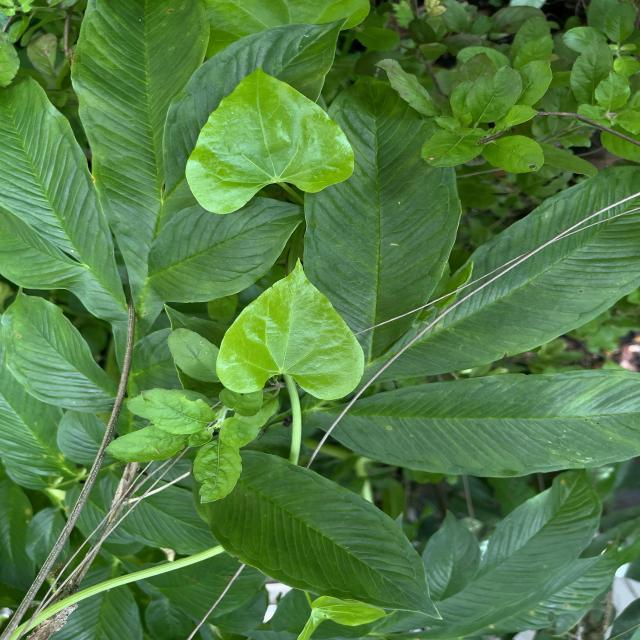Tinospora cordifolia: (182, 65, 358, 218), (213, 254, 367, 404)
